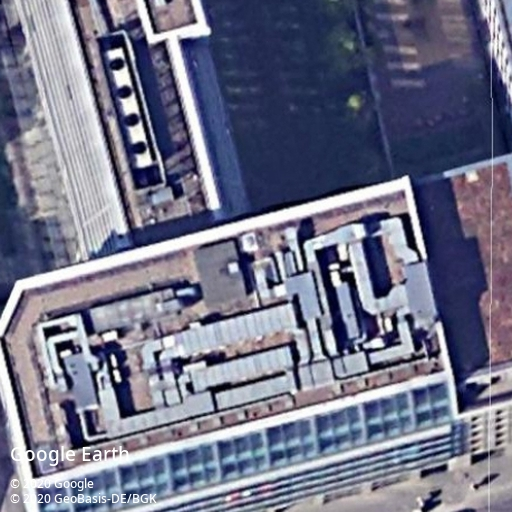Chiller: (101, 46, 155, 171)
